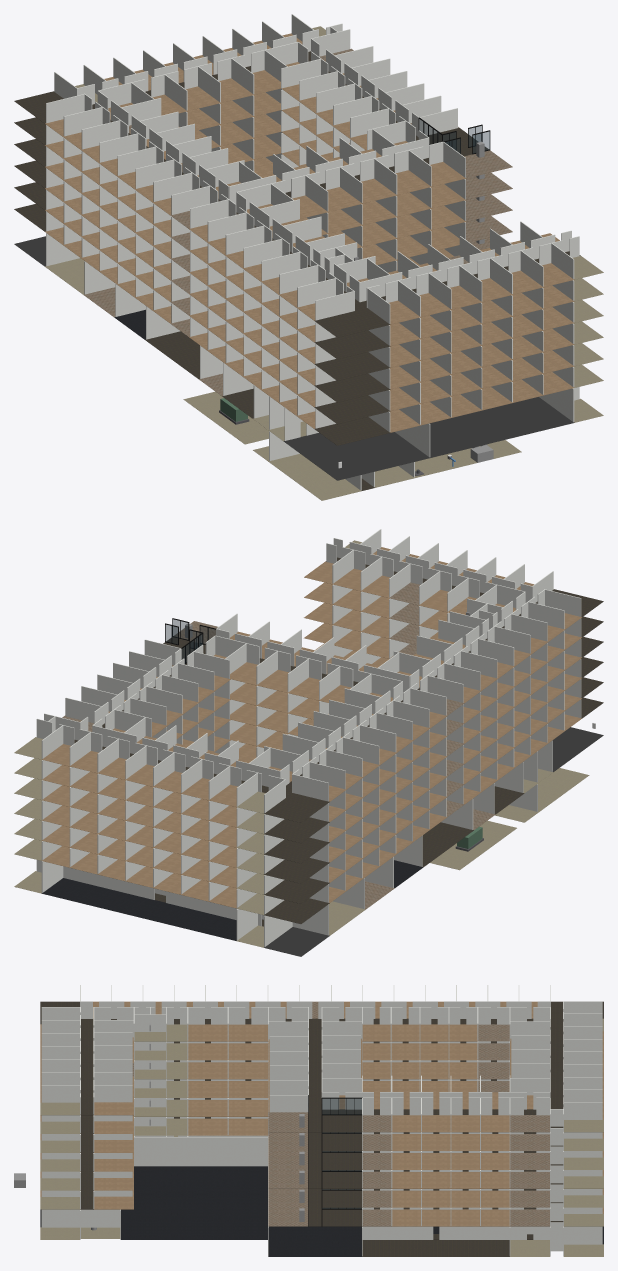
The model's file is blackwell-interior.glb.
The picture shows the model from 3 angles, top to bottom: view 1: azimuth 30°, elevation 25°; view 2: azimuth 150°, elevation 25°; view 3: azimuth 270°, elevation 25°; orthographic projection. The views are drawn at different scales.
Visible parts, largest first — view 1: level_L7, level_L6, level_L5, level_L1, level_L4, level_L3, level_L2, level_B1, floor_L1-lobby, floor_L4-corner_lounge; view 2: level_L7, level_L1, level_L6, level_L5, level_L4, level_L3, level_L2, level_B1, floor_L1-lobby; view 3: level_L7, level_L1, level_L6, level_L5, level_L4, level_L2, level_L3, level_B1.
Boxes of the visible parts, left/top/right/bottom form: level_L7: left=14, top=14, right=603, bottom=337; level_L6: left=14, top=88, right=603, bottom=359; level_L5: left=14, top=110, right=603, bottom=380; level_L1: left=14, top=233, right=603, bottom=475; level_L4: left=14, top=132, right=603, bottom=389; level_L3: left=14, top=153, right=603, bottom=424; level_L2: left=14, top=204, right=603, bottom=445; level_B1: left=183, top=391, right=521, bottom=500; floor_L1-lobby: left=283, top=432, right=430, bottom=480; floor_L4-corner_lounge: left=314, top=373, right=390, bottom=402; level_L7: left=14, top=529, right=603, bottom=822; level_L1: left=14, top=723, right=595, bottom=956; level_L6: left=14, top=582, right=603, bottom=842; level_L5: left=14, top=602, right=603, bottom=863; level_L4: left=14, top=623, right=581, bottom=883; level_L3: left=14, top=643, right=603, bottom=903; level_L2: left=14, top=697, right=603, bottom=923; level_B1: left=430, top=768, right=589, bottom=870; floor_L1-lobby: left=552, top=727, right=603, bottom=771; level_L7: left=40, top=985, right=603, bottom=1132; level_L1: left=14, top=1135, right=603, bottom=1256; level_L6: left=40, top=1041, right=603, bottom=1151; level_L5: left=40, top=1060, right=603, bottom=1169; level_L4: left=40, top=1079, right=603, bottom=1188; level_L2: left=40, top=1117, right=603, bottom=1226; level_L3: left=40, top=1098, right=603, bottom=1207; level_B1: left=81, top=1227, right=120, bottom=1238.
Size of the model in its own units: 46.03 by 27.85 by 87.9.
Materials: 19 (11 with a texture image).
